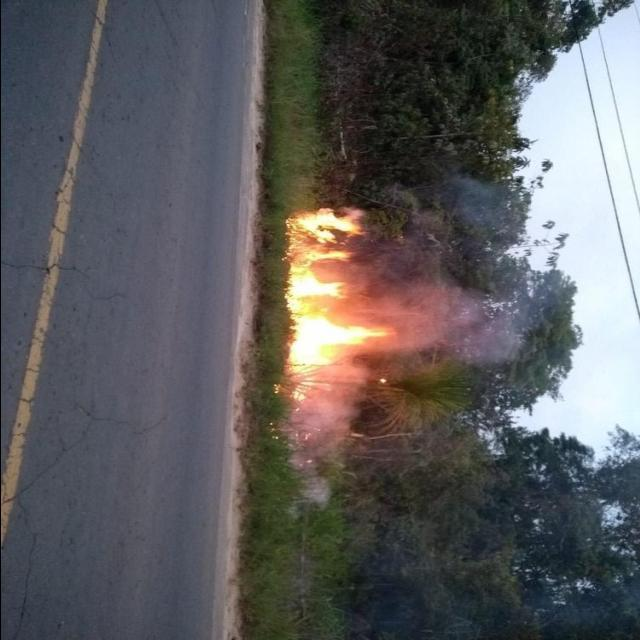Fire: (280, 208, 400, 371)
